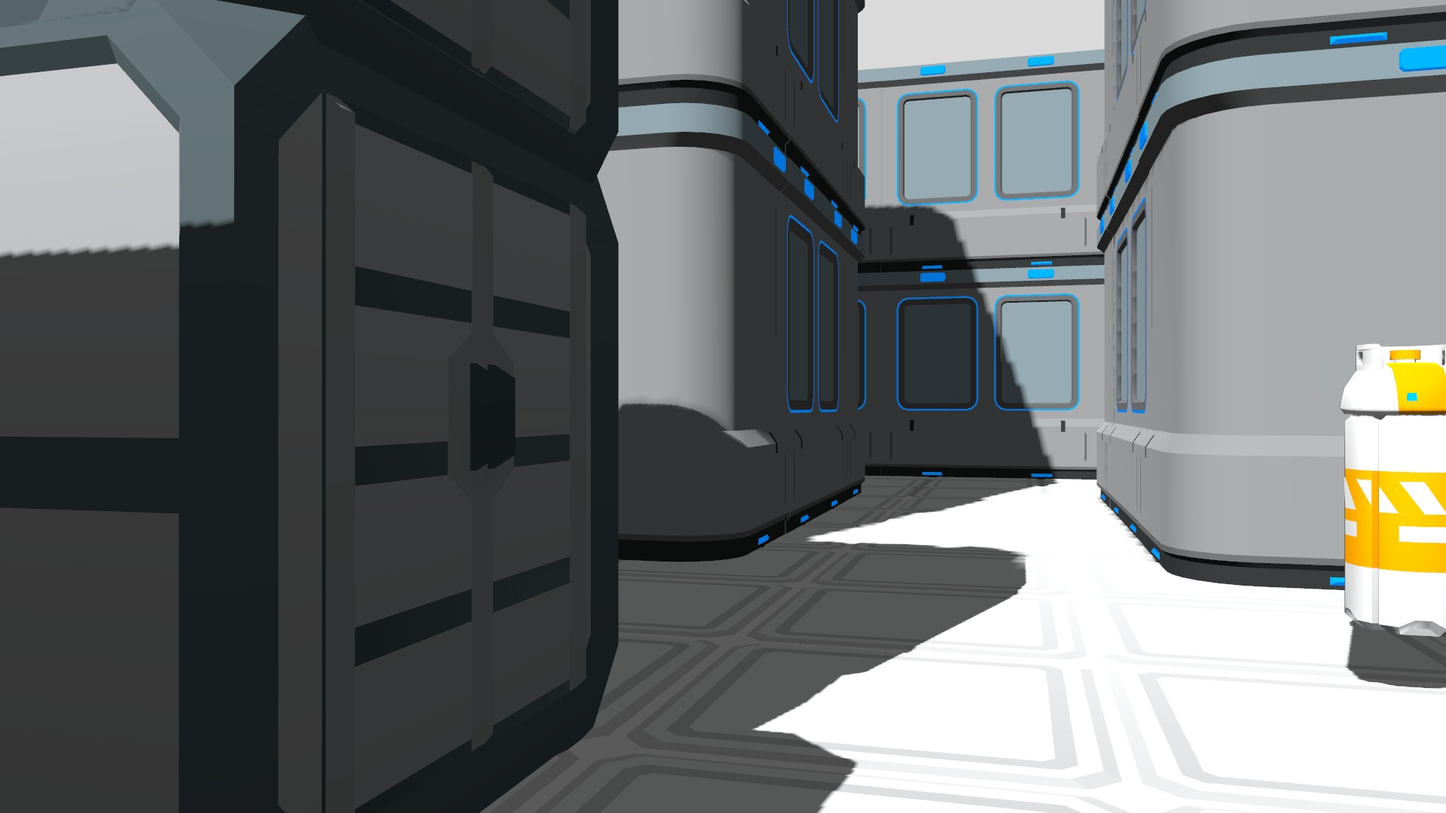yellow_barrel: (1335, 333, 1446, 647)
